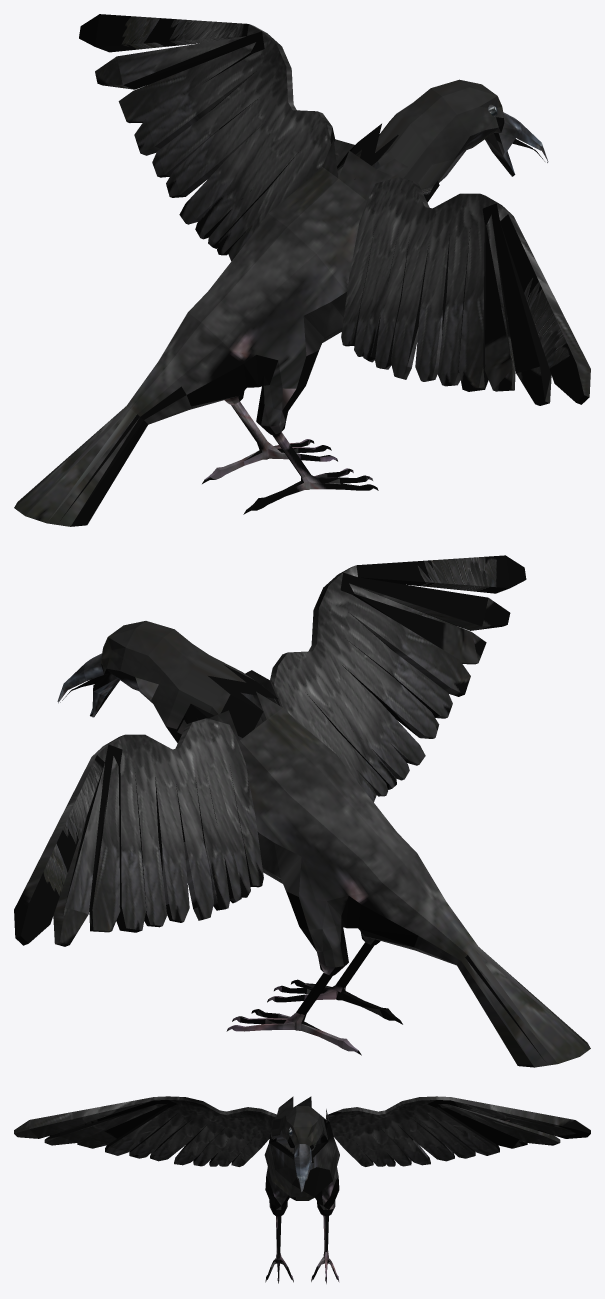
The model's file is CrowBent0_000014.obj.
3 views of the same model, one above another, from view 1: azimuth 30°, elevation 25°; view 2: azimuth 150°, elevation 25°; view 3: azimuth 270°, elevation 25° (orthographic). The views are drawn at different scales.
Visible parts, largest first — view 1: Cylinder.009, Cylinder.003, Cylinder.002, Cylinder.001; view 2: Cylinder.009, Cylinder.002, Cylinder.003, Cylinder.001; view 3: Cylinder.002, Cylinder.003, Cylinder.009, Cylinder.001.
Boxes of the visible parts, x1=… form: Cylinder.009: x1=14, y1=139, x2=407, y2=526; Cylinder.003: x1=341, y1=177, x2=590, y2=405; Cylinder.002: x1=79, y1=14, x2=338, y2=261; Cylinder.001: x1=337, y1=79, x2=548, y2=202; Cylinder.009: x1=192, y1=670, x2=590, y2=1067; Cylinder.002: x1=14, y1=718, x2=263, y2=946; Cylinder.003: x1=267, y1=555, x2=526, y2=802; Cylinder.001: x1=57, y1=621, x2=278, y2=743; Cylinder.002: x1=326, y1=1096, x2=590, y2=1166; Cylinder.003: x1=14, y1=1096, x2=278, y2=1166; Cylinder.009: x1=264, y1=1096, x2=339, y2=1283; Cylinder.001: x1=269, y1=1106, x2=329, y2=1192.
Size of the model in its own units: 5.65 by 3.65 by 9.33.
Materials: 4 (4 with a texture image).
